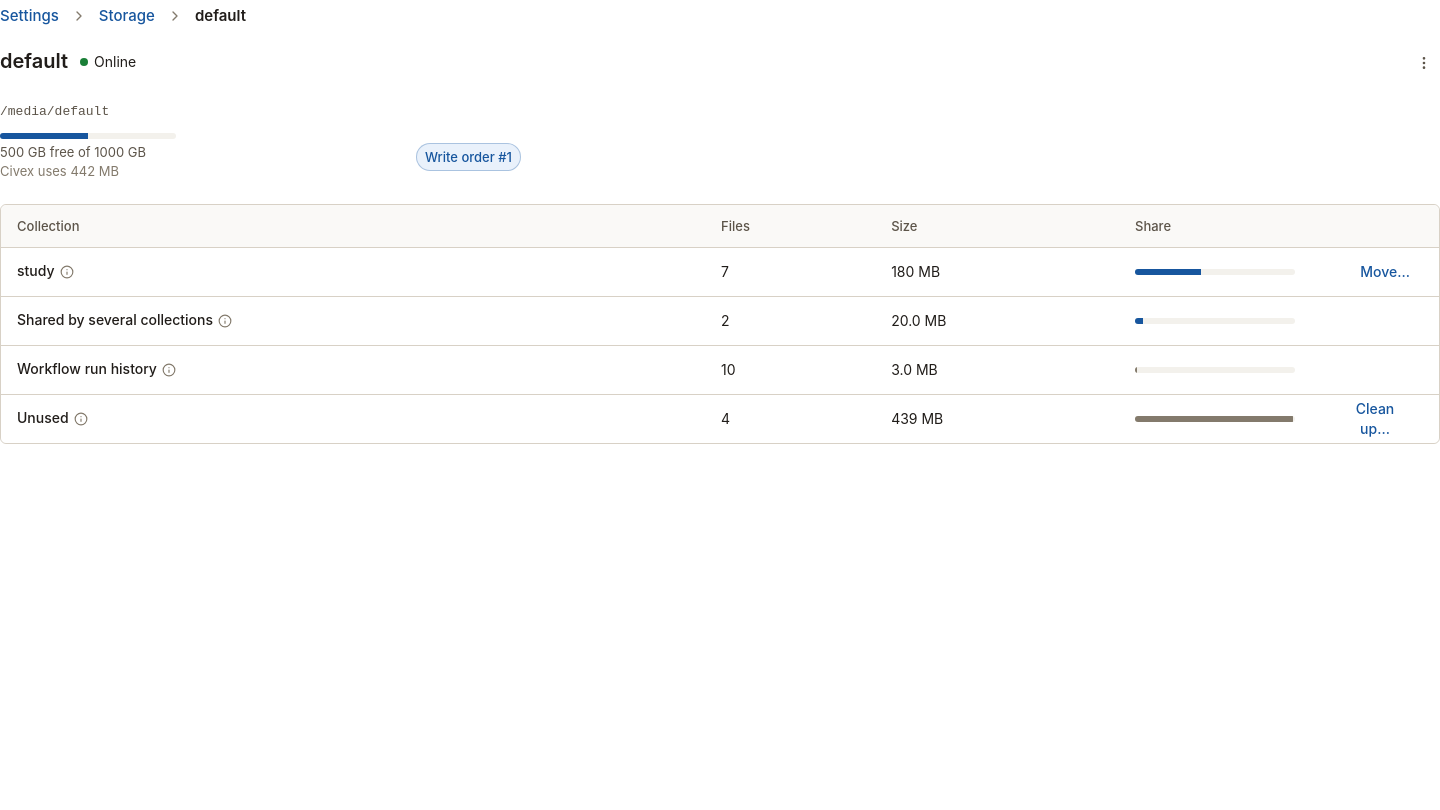
Test: a volume’s page › starts a move off the drive from its page
Click the button named "More actions" at (1424, 63), box [1408, 47, 1439, 79]
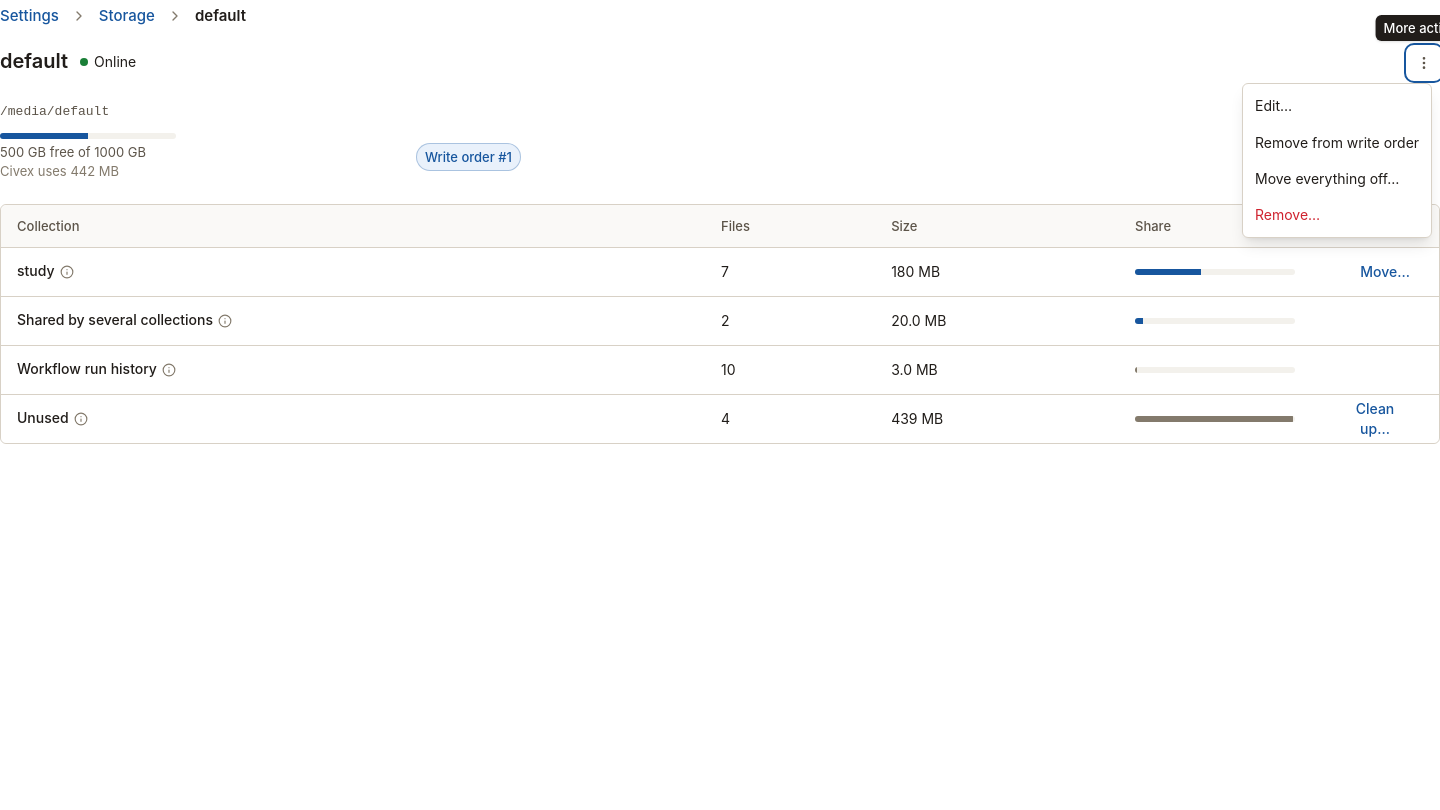
Click the menu item "Move everything off…" at (1337, 179), box [1243, 161, 1431, 197]
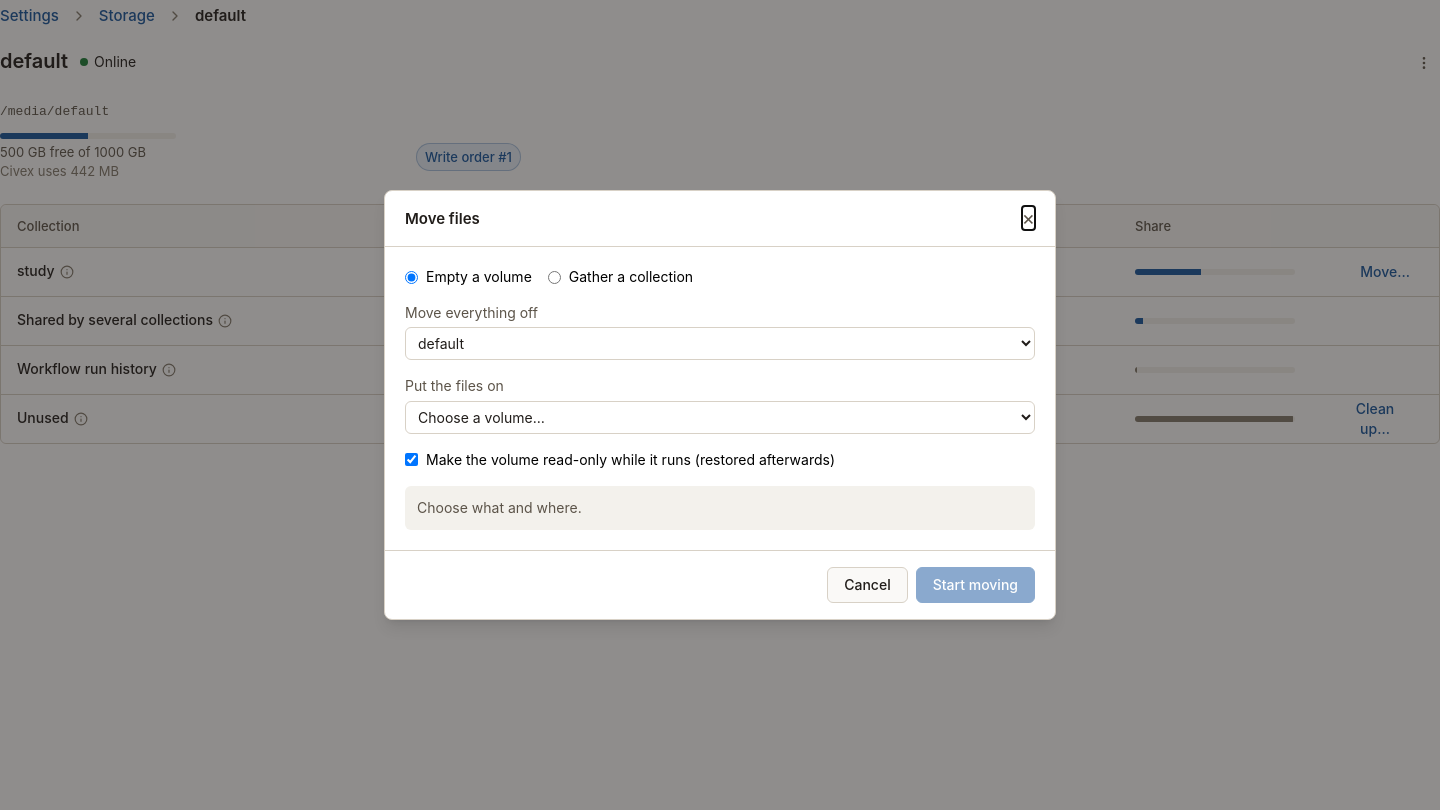
Check: the dropdown labelled "Move everything off" shows "default", box [405, 328, 1035, 360]
